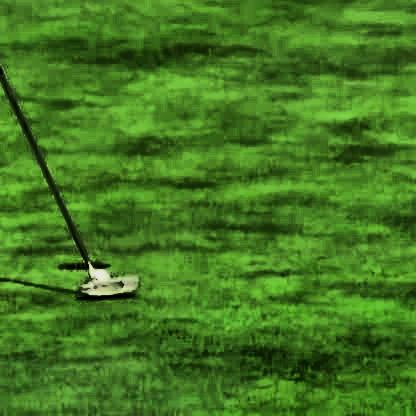golfball: (89, 270, 108, 281)
